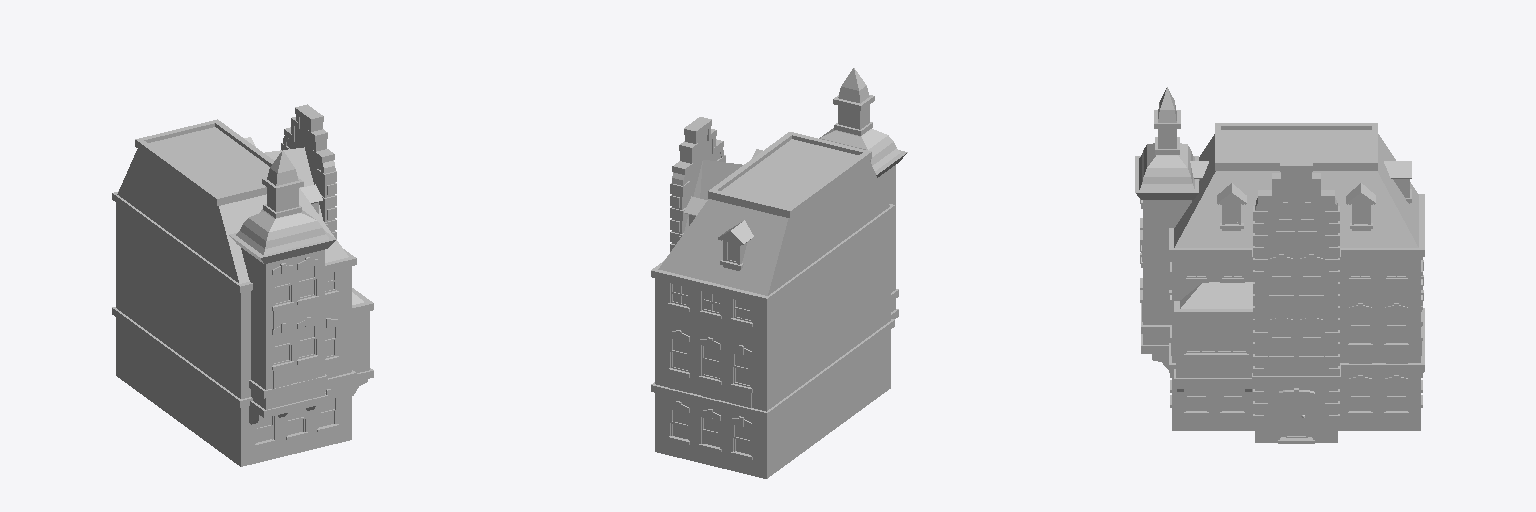
File: House7.obj
3 renders of one model, left to right at view 1: azimuth 30°, elevation 25°; view 2: azimuth 150°, elevation 25°; view 3: azimuth 270°, elevation 25°, orthographic.
Parts seen in each view (by area): view 1: House7:Cube_558; view 2: House7:Cube_558; view 3: House7:Cube_558.
Boxes of the visible parts, x1,y1,x2,y2 form: House7:Cube_558: [112, 104, 373, 466]; House7:Cube_558: [651, 68, 907, 478]; House7:Cube_558: [1135, 87, 1424, 443].
Size of the model in its own units: 7.85 by 16.21 by 13.74.